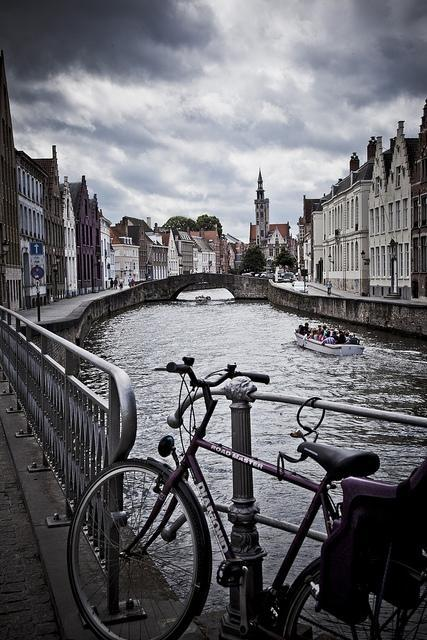bicycle: (65, 357, 427, 640)
